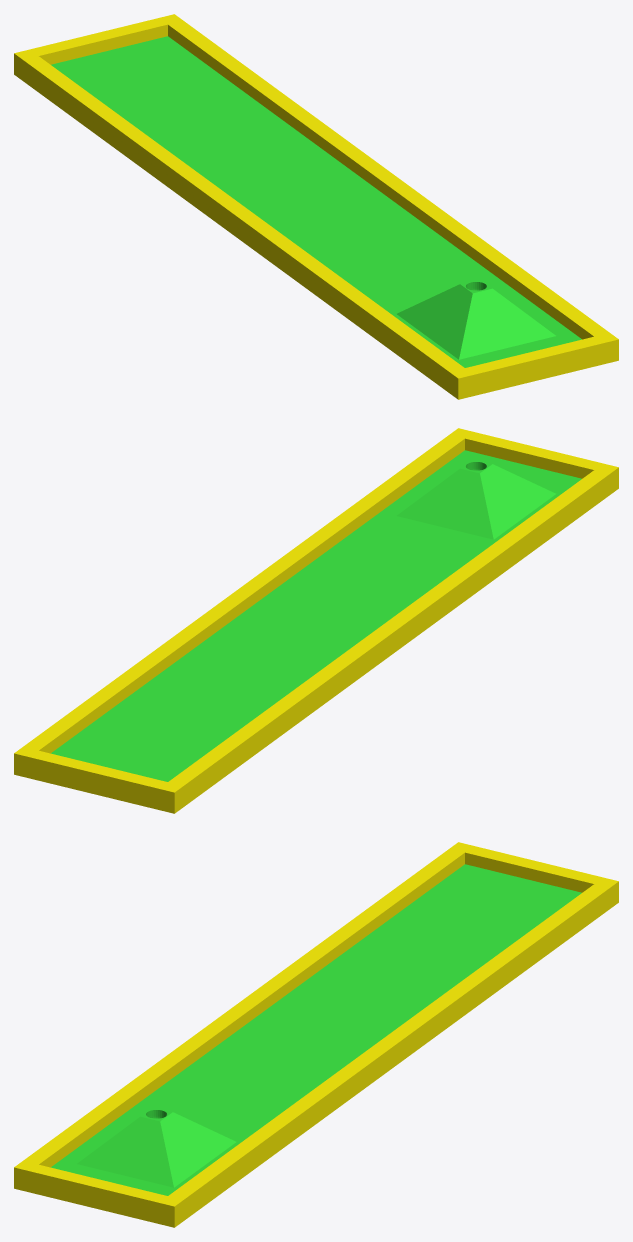
Rendered from Bahn5.fbx.
3 renders of one model, top to bottom at view 1: azimuth 30°, elevation 25°; view 2: azimuth 150°, elevation 25°; view 3: azimuth 330°, elevation 25°, orthographic.
Parts seen in each view (by area): view 1: BahnF1; view 2: BahnF1; view 3: BahnF1.
Part boxes in pixels (x1,y1,x2,y2): BahnF1: (14, 14, 618, 399); BahnF1: (14, 428, 618, 813); BahnF1: (14, 842, 618, 1227).
Size of the model in its own units: 87 by 25 by 417.
